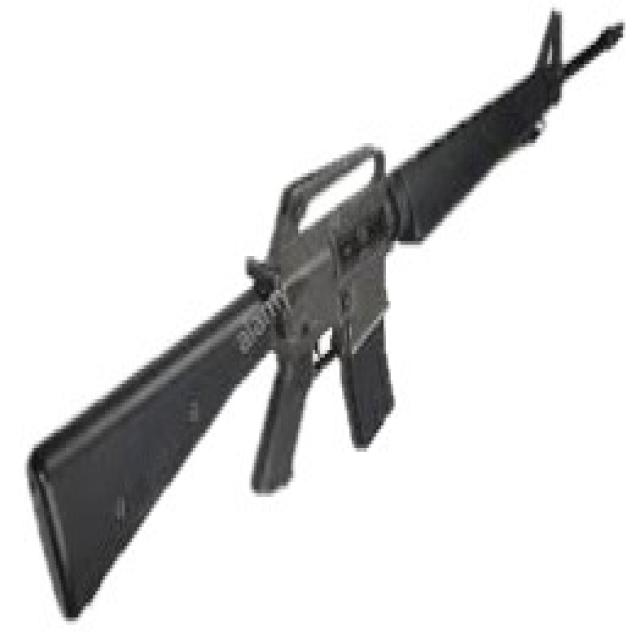rifle: (23, 10, 630, 628)
